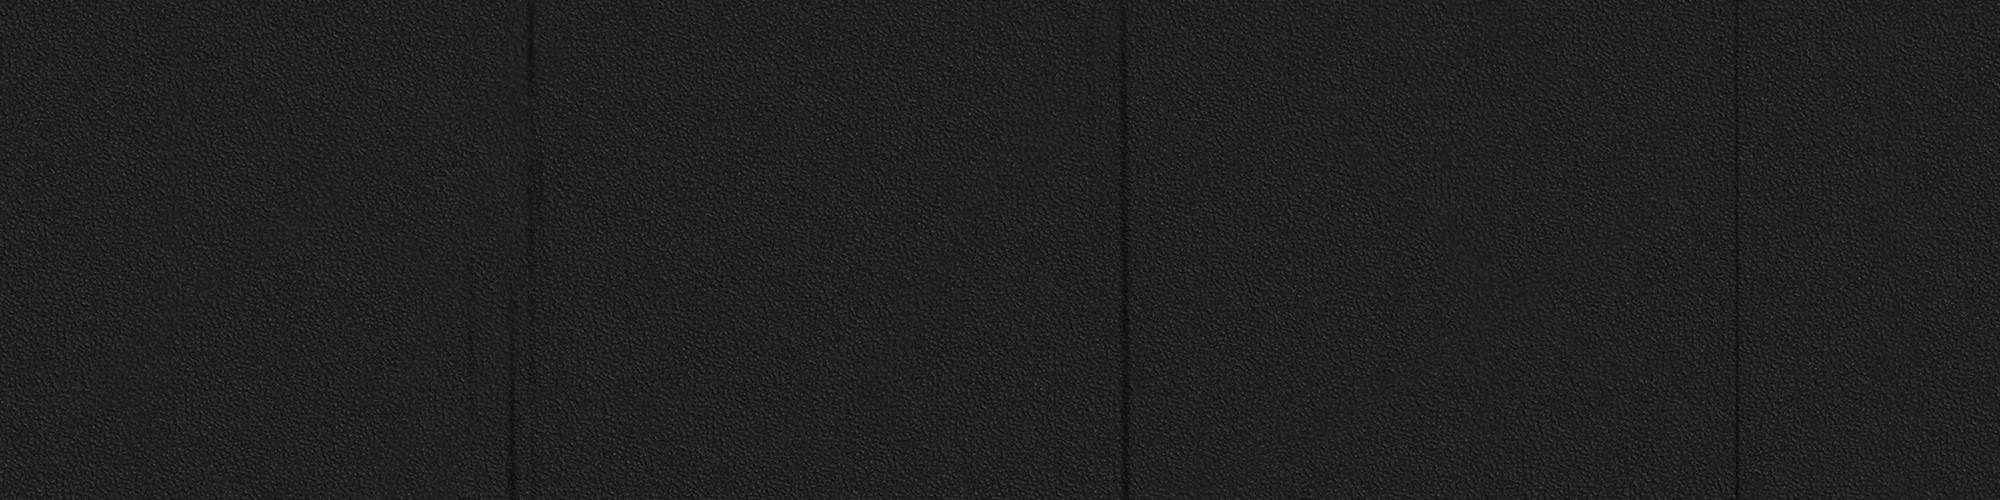DieDrag: (481, 4, 562, 496), (1099, 6, 1159, 500), (1703, 4, 1759, 497)
